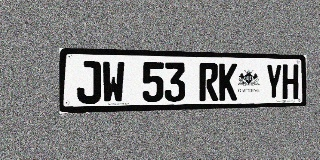3: (165, 62, 185, 102)
5: (143, 62, 164, 102)
H: (282, 64, 298, 99)
J: (77, 61, 101, 104)
K: (219, 63, 237, 101)
R: (199, 63, 218, 101)
W: (102, 61, 125, 103)
Y: (265, 64, 282, 100)
